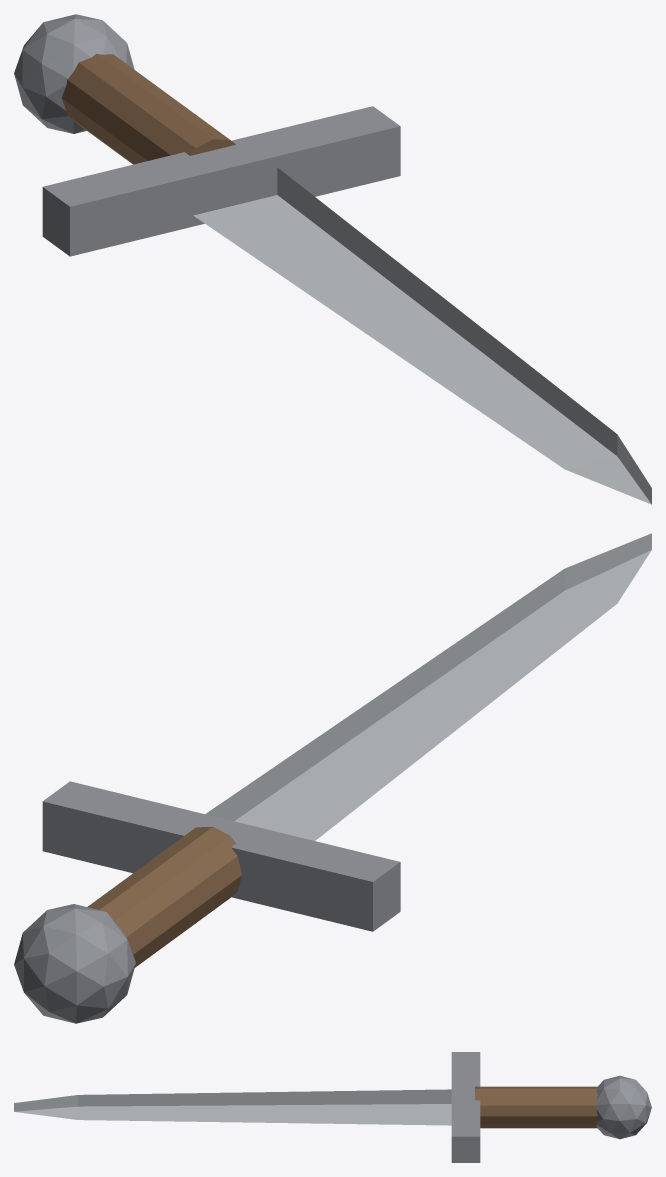
Rendered from iron_sword.glb.
The picture shows the model from 3 angles, top to bottom: view 1: azimuth 30°, elevation 25°; view 2: azimuth 150°, elevation 25°; view 3: azimuth 270°, elevation 25°; orthographic projection. The views are drawn at different scales.
Parts seen in each view (by area): view 1: Blade, Guard, Handle, Pommel; view 2: Blade, Guard, Pommel, Handle; view 3: Blade, Handle, Guard, Pommel.
Part boxes in pixels (left/top/right/bottom): Blade: left=193, top=167, right=651, bottom=504; Guard: left=42, top=106, right=400, bottom=256; Handle: left=61, top=53, right=235, bottom=164; Pommel: left=14, top=14, right=134, bottom=133; Blade: left=205, top=533, right=651, bottom=840; Guard: left=42, top=781, right=400, bottom=931; Pommel: left=14, top=904, right=135, bottom=1023; Handle: left=87, top=826, right=241, bottom=967; Blade: left=14, top=1089, right=451, bottom=1125; Handle: left=475, top=1086, right=597, bottom=1128; Guard: left=451, top=1052, right=480, bottom=1162; Pommel: left=596, top=1075, right=651, bottom=1139.
Size of the model in its own units: 1.25 by 0.4 by 3.98.
